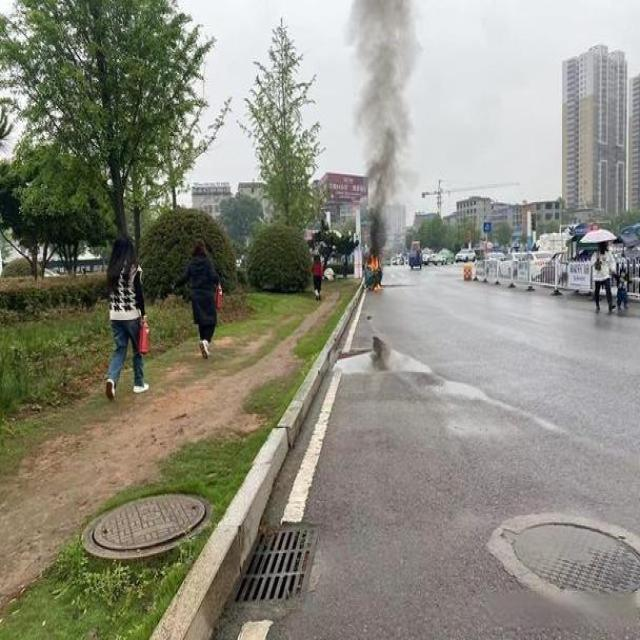Smoke: (344, 0, 420, 253)
